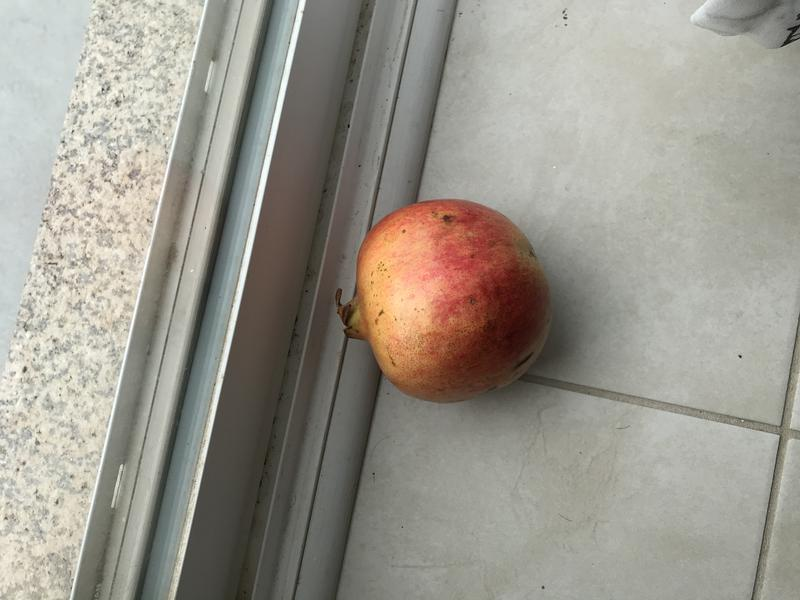pomegranate: (326, 188, 573, 417)
